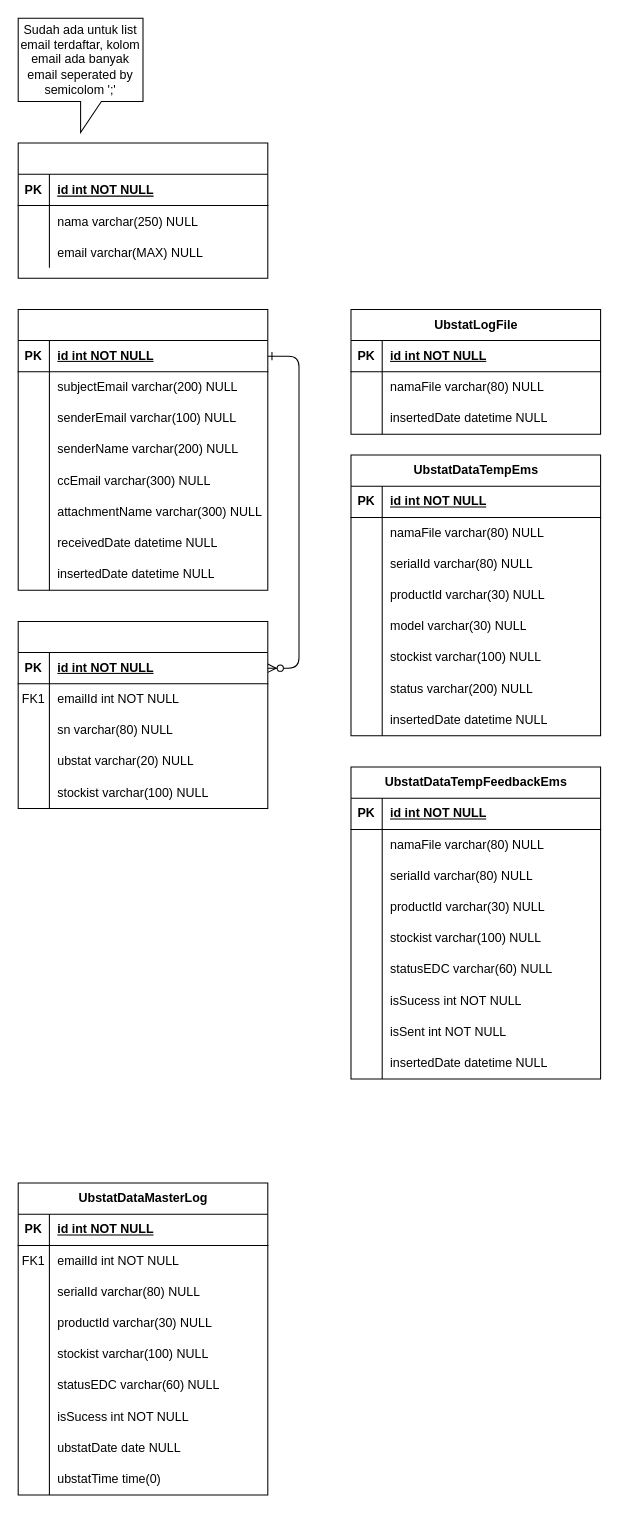
Some shapes in this 619 by 1513 pixel diagram are drawn without their labels. The box of each missing label's shape, as (x1, y1, x2, y2) in pixels:
UbstatDataTempEmailAttachment: (17, 620, 268, 809)
UbstatLogEmail: (17, 308, 268, 590)
vendor: (17, 142, 268, 278)
